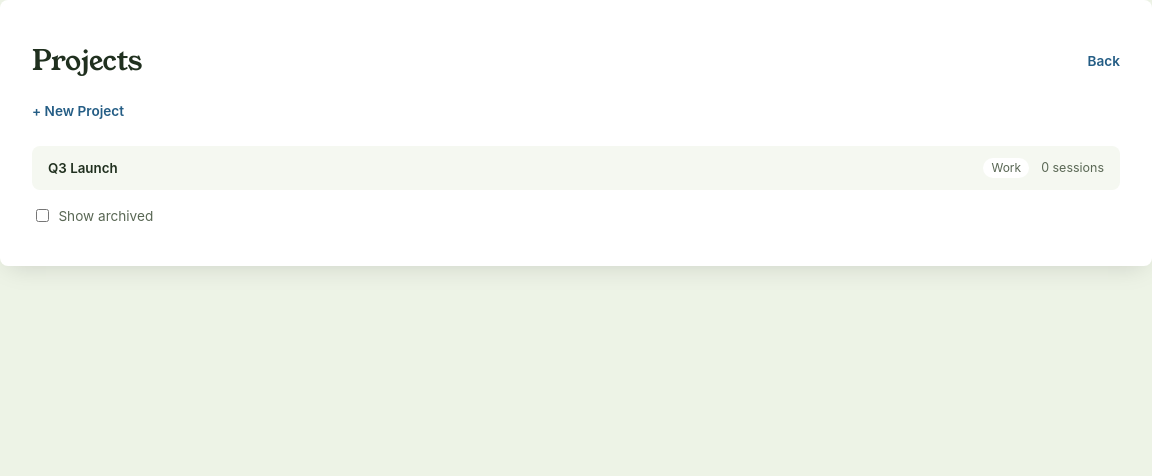
Projects detail Board/Sessions tabs › passes only this project's tasks to the board
What coordinates should you click on to do the following:
click the text "Q3 Launch"
I would click on:
 (83, 168)
Its box is [48,160,118,176].
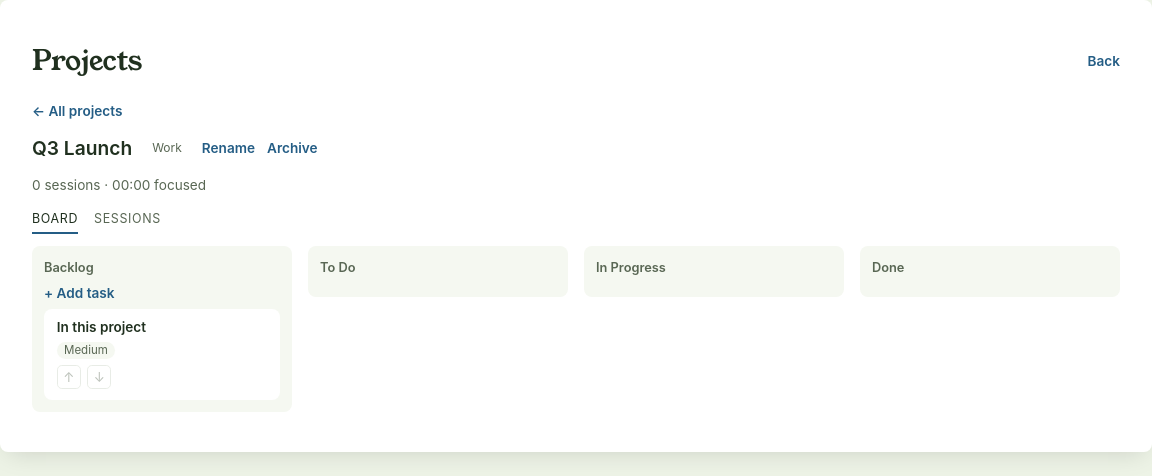
Now the text "In this project" is shown, box [57,319,146,335]
